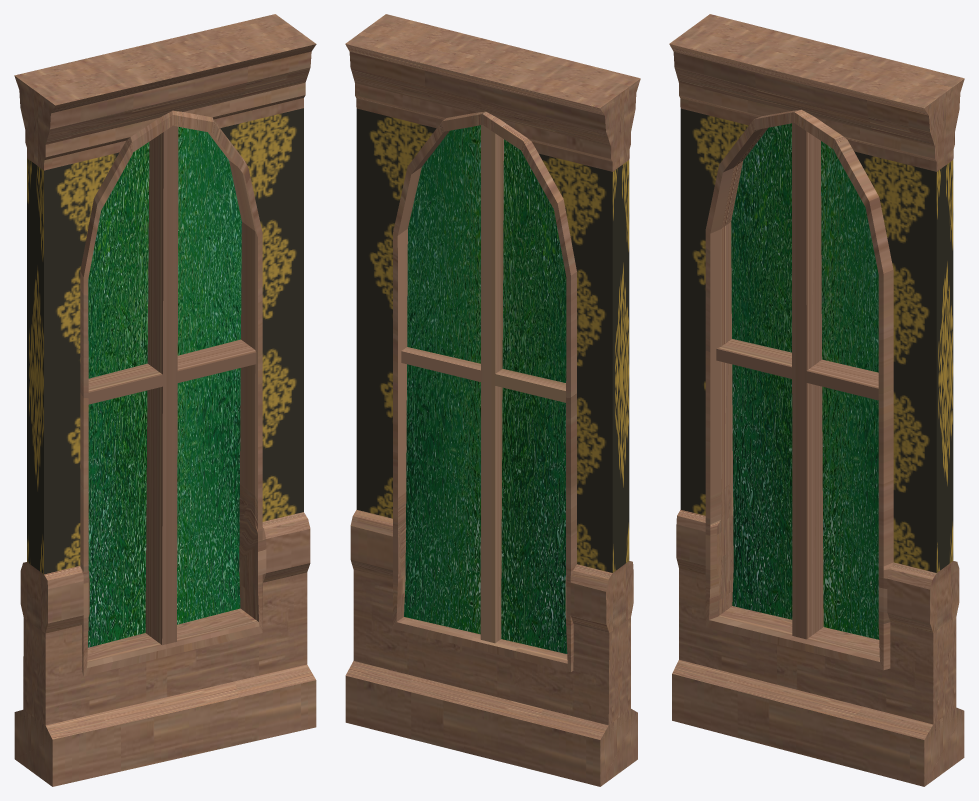
The model's file is Wall_TB_Window.fbx.
The picture shows the model from 3 angles, left to right: view 1: azimuth 30°, elevation 25°; view 2: azimuth 150°, elevation 25°; view 3: azimuth 330°, elevation 25°; orthographic projection.
Parts seen in each view (by area): view 1: MWall_Small_Window_TB; view 2: MWall_Small_Window_TB; view 3: MWall_Small_Window_TB.
Part boxes in pixels (bbox=[...]): MWall_Small_Window_TB: bbox=[14, 14, 316, 786]; MWall_Small_Window_TB: bbox=[345, 14, 640, 786]; MWall_Small_Window_TB: bbox=[669, 14, 964, 786].
Size of the model in its own units: 406 by 118 by 1024.
